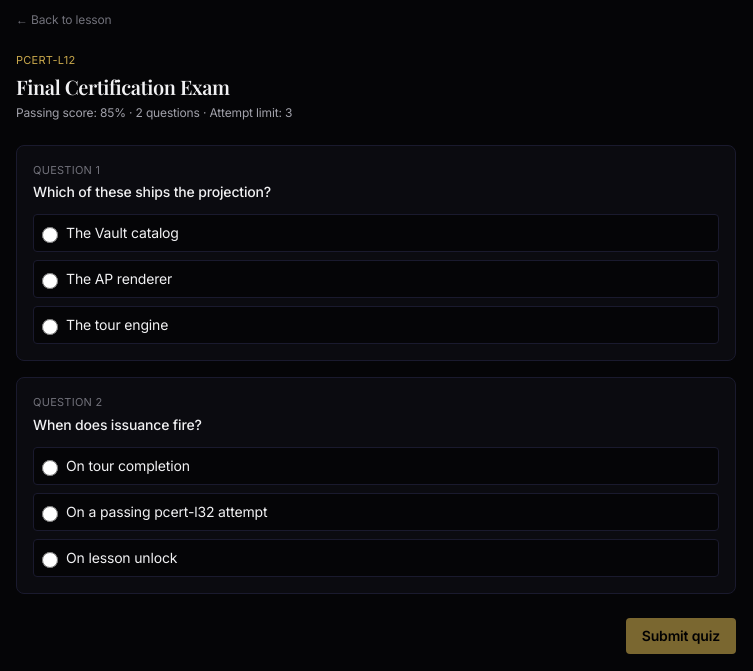
Test case: QuizPageClient — result envelope › renders the failed card on 'graded' + passed:false and offers Retake
Click the radio button labelled "The Vault catalog". click: (50, 235)
box: 42,227 -> 58,243
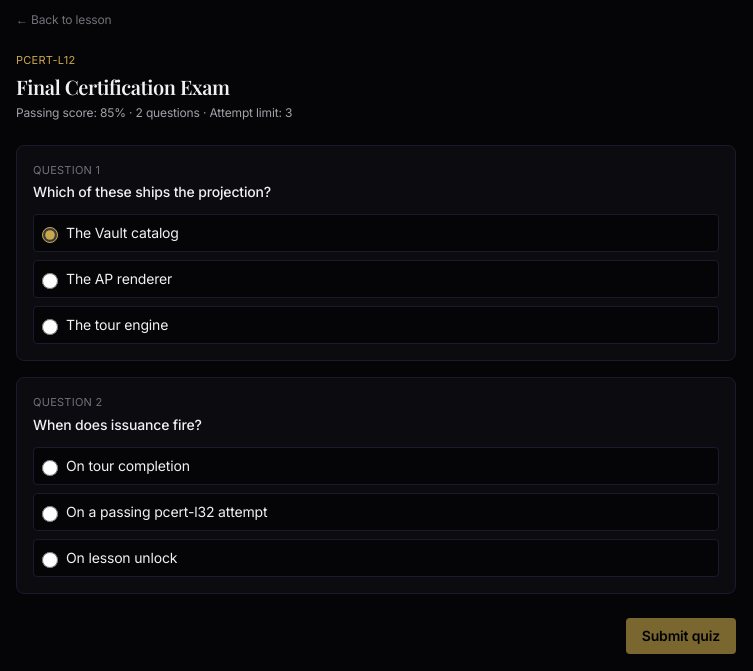
Click the radio button labelled "On a passing pcert-l32 attempt". click: (50, 514)
box: 42,506 -> 58,522
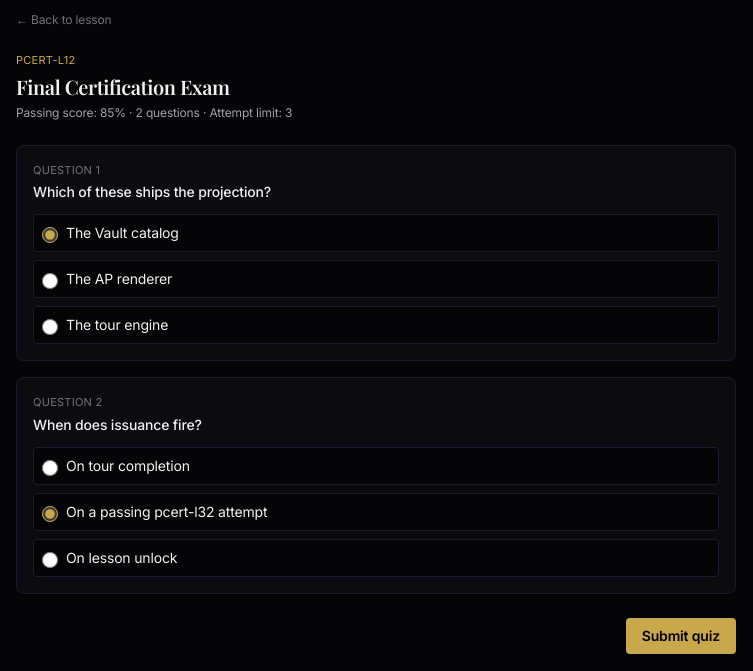
Click the button "Submit quiz". click: (681, 636)
box: 626,618 -> 736,654
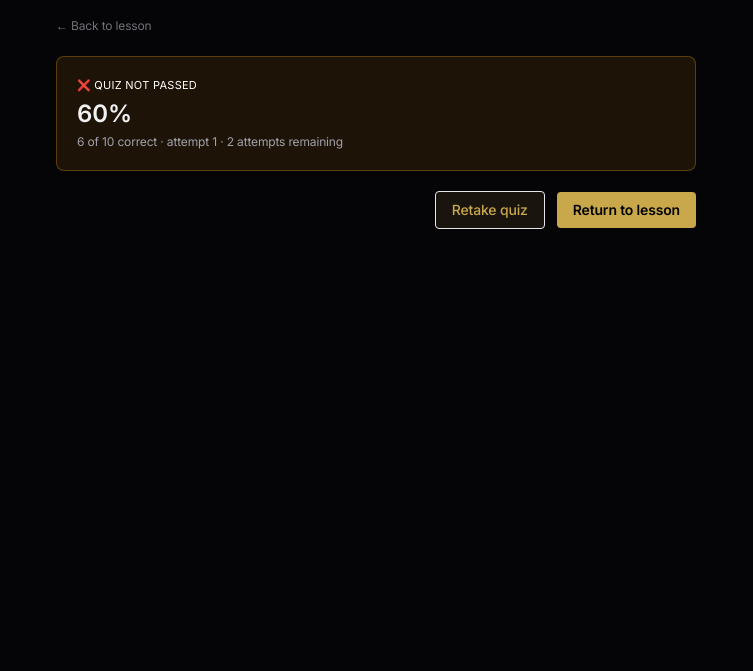
Expected: the element that starts with "❌ Quiz not passed" is shown, 56,56 -> 696,170
Expected: the button "Retake quiz" is shown, 435,190 -> 545,228
